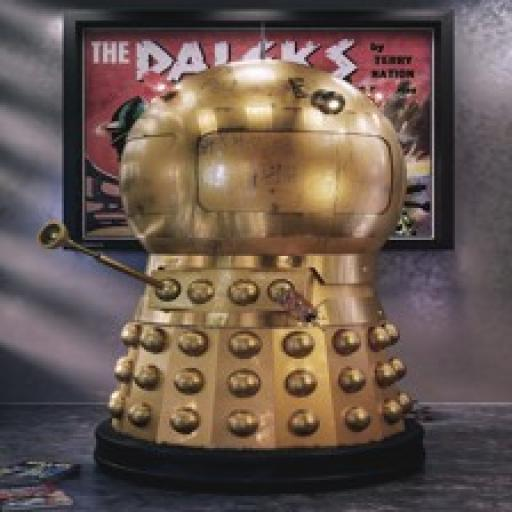dalek: (30, 54, 432, 484)
